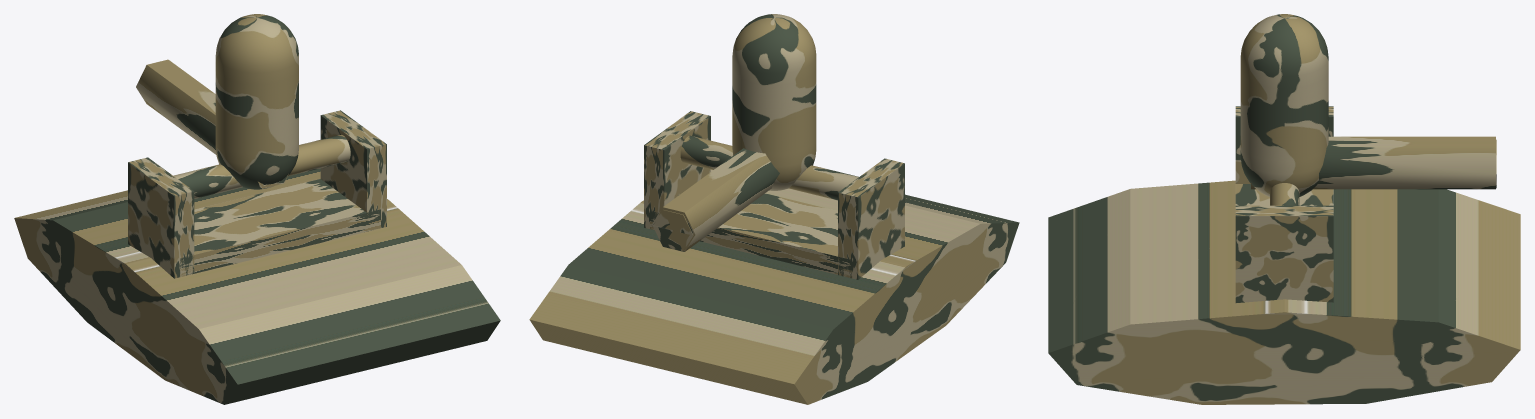
Rendered from Xdog.fbx.
3 renders of one model, left to right at view 1: azimuth 30°, elevation 25°; view 2: azimuth 150°, elevation 25°; view 3: azimuth 270°, elevation 25°, orthographic. The views are drawn at different scales.
Visible parts, largest first — view 1: base, yr, xr; view 2: base, xr, yr, ray; view 3: base, xr, yr.
Part boxes in pixels (x1,y1,x2,y2): base: (14, 168, 500, 404); yr: (128, 110, 386, 278); xr: (136, 14, 350, 198); base: (529, 169, 1019, 404); xr: (652, 14, 858, 251); yr: (644, 111, 904, 279); ray: (653, 210, 693, 251); base: (1048, 180, 1520, 404); xr: (1240, 14, 1495, 205); yr: (1235, 106, 1333, 302).
Size of the model in its own units: 656 by 719 by 965.
